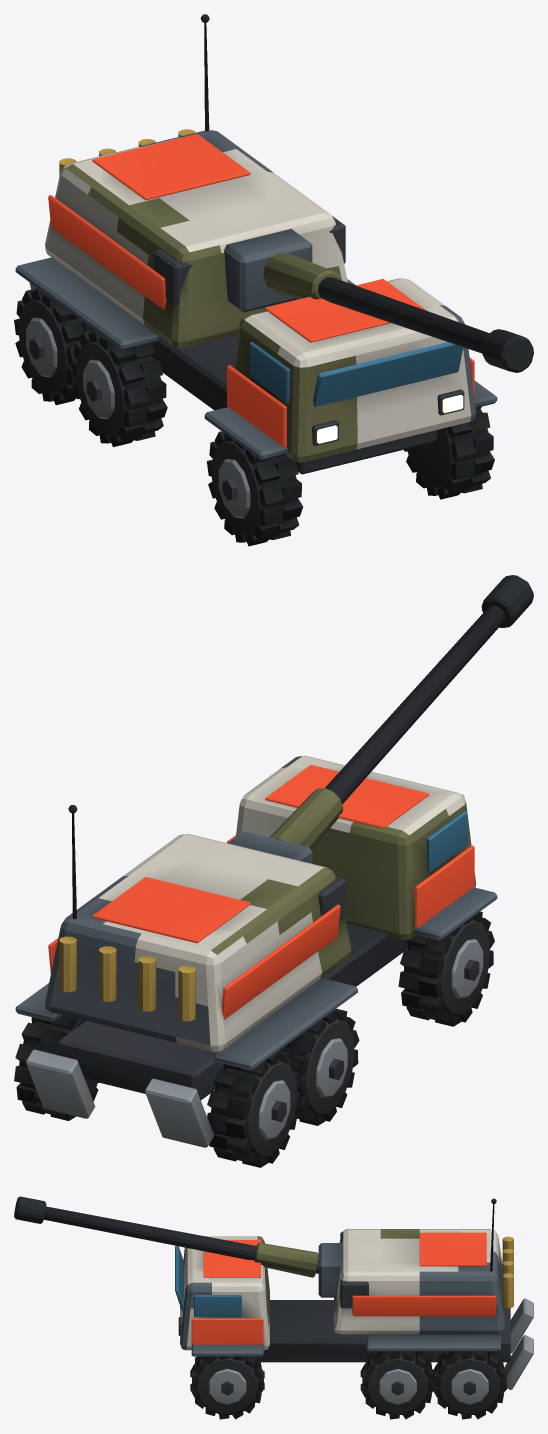
File: howitzer.glb
3 views of the same model, one above another, from view 1: azimuth 30°, elevation 25°; view 2: azimuth 150°, elevation 25°; view 3: azimuth 270°, elevation 25° (orthographic). The views are drawn at different scales.
Parts seen in each view (by area): view 1: geo_body, geo_turret, geo_wheel_front, geo_wheel_mid, geo_barrel, geo_wheel_rear; view 2: geo_turret, geo_body, geo_wheel_rear, geo_barrel, geo_wheel_front, geo_wheel_mid; view 3: geo_turret, geo_body, geo_barrel, geo_wheel_mid, geo_wheel_rear, geo_wheel_front.
Boxes of the visible parts, x1,y1,x2,y2 form: geo_body: (15, 257, 497, 474); geo_turret: (45, 14, 347, 347); geo_wheel_front: (207, 406, 494, 546); geo_wheel_mid: (71, 330, 167, 447); geo_barrel: (263, 252, 533, 372); geo_wheel_rear: (14, 288, 94, 405); geo_turret: (45, 805, 351, 1051); geo_body: (15, 755, 497, 1147); geo_wheel_rear: (14, 1015, 302, 1167); geo_barrel: (270, 575, 533, 849); geo_wheel_front: (398, 911, 494, 1026); geo_wheel_mid: (279, 1008, 359, 1125); geo_turret: (318, 1198, 513, 1334); geo_body: (175, 1236, 533, 1389); geo_barrel: (14, 1196, 318, 1277); geo_wheel_mid: (360, 1351, 434, 1419); geo_wheel_rear: (433, 1351, 506, 1419); geo_wheel_front: (190, 1356, 264, 1419).
Size of the model in its own units: 3.74 by 4.75 by 10.83.
